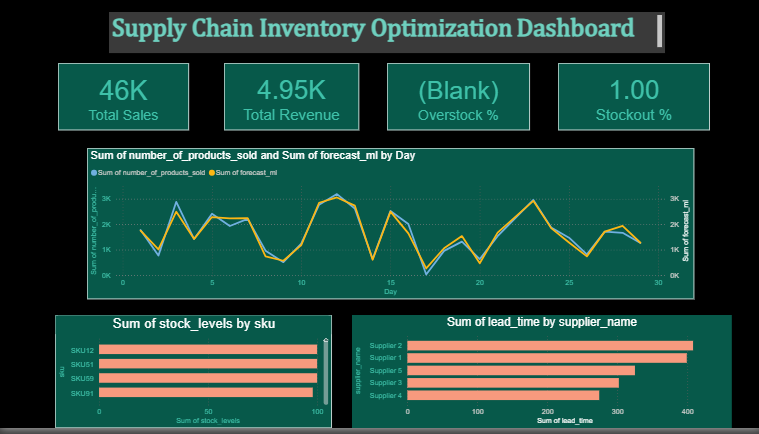

This screenshot's page, from the dashboard's own definition file:
{"tool":"powerbi","page":{"name":"Executive Summary","canvas":[1280,720],"ordinal":0},"visuals":[{"type":"card","fields":{"Values":["final_forecast_data.Total Sales"]},"box":[97.4,107.5,220.1,112.5],"z":0},{"type":"card","fields":{"Values":["final_forecast_data.Total Revenue"]},"box":[376.3,107.5,226.8,112.5],"z":1000},{"type":"card","fields":{"Values":["final_forecast_data.Overstock %"]},"box":[650.1,107.5,240.2,112.5],"z":2000},{"type":"textbox","box":[183.1,21.8,934,68.9],"z":3000},{"type":"card","fields":{"Values":["final_forecast_data.Stockout %"]},"box":[937.3,107.5,255.3,112.5],"z":4000},{"type":"lineChart","fields":{"Category":["final_forecast_data.date.Variation.Date Hierarchy.Year","final_forecast_data.date.Variation.Date Hierarchy.Quarter","final_forecast_data.date.Variation.Date Hierarchy.Month","final_forecast_data.date.Variation.Date Hierarchy.Day"],"Y":["Sum(final_forecast_data.number_of_products_sold)"],"Y2":["Sum(final_forecast_data.forecast_ml)"]},"box":[146.1,250.3,1019.6,253.6],"z":5000},{"type":"clusteredBarChart","fields":{"Category":["final_forecast_data.sku"],"Y":["Sum(final_forecast_data.stock_levels)"]},"box":[92.4,530.8,465.3,189.8],"z":6000},{"type":"clusteredBarChart","fields":{"Category":["final_forecast_data.supplier_name"],"Y":["Sum(final_forecast_data.lead_time)"]},"box":[591.3,530.8,638.3,189.8],"z":7000}]}

Visuals, with their boxes in screenshot pixels (x1, y1, x2, y2), scaled from the page's 1280x720 canvas onto the 759x434 screenshot:
card - final_forecast_data.Total Sales: 58 65 188 133
card - final_forecast_data.Total Revenue: 223 65 358 133
card - final_forecast_data.Overstock %: 385 65 528 133
textbox: 109 13 662 55
card - final_forecast_data.Stockout %: 556 65 707 133
lineChart - final_forecast_data.date.Variation.Date Hierarchy.Year x final_forecast_data.date.Variation.Date Hierarchy.Quarter: 87 151 691 304
clusteredBarChart - final_forecast_data.sku x Sum(final_forecast_data.stock_levels): 55 320 331 433
clusteredBarChart - final_forecast_data.supplier_name x Sum(final_forecast_data.lead_time): 351 320 729 433
